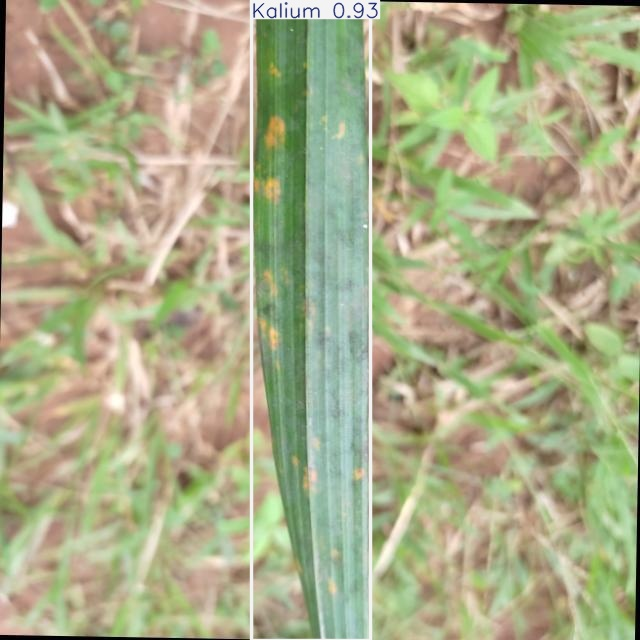Kalium: (251, 0, 371, 640)
